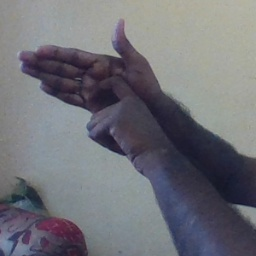R: (16, 18, 169, 154)
